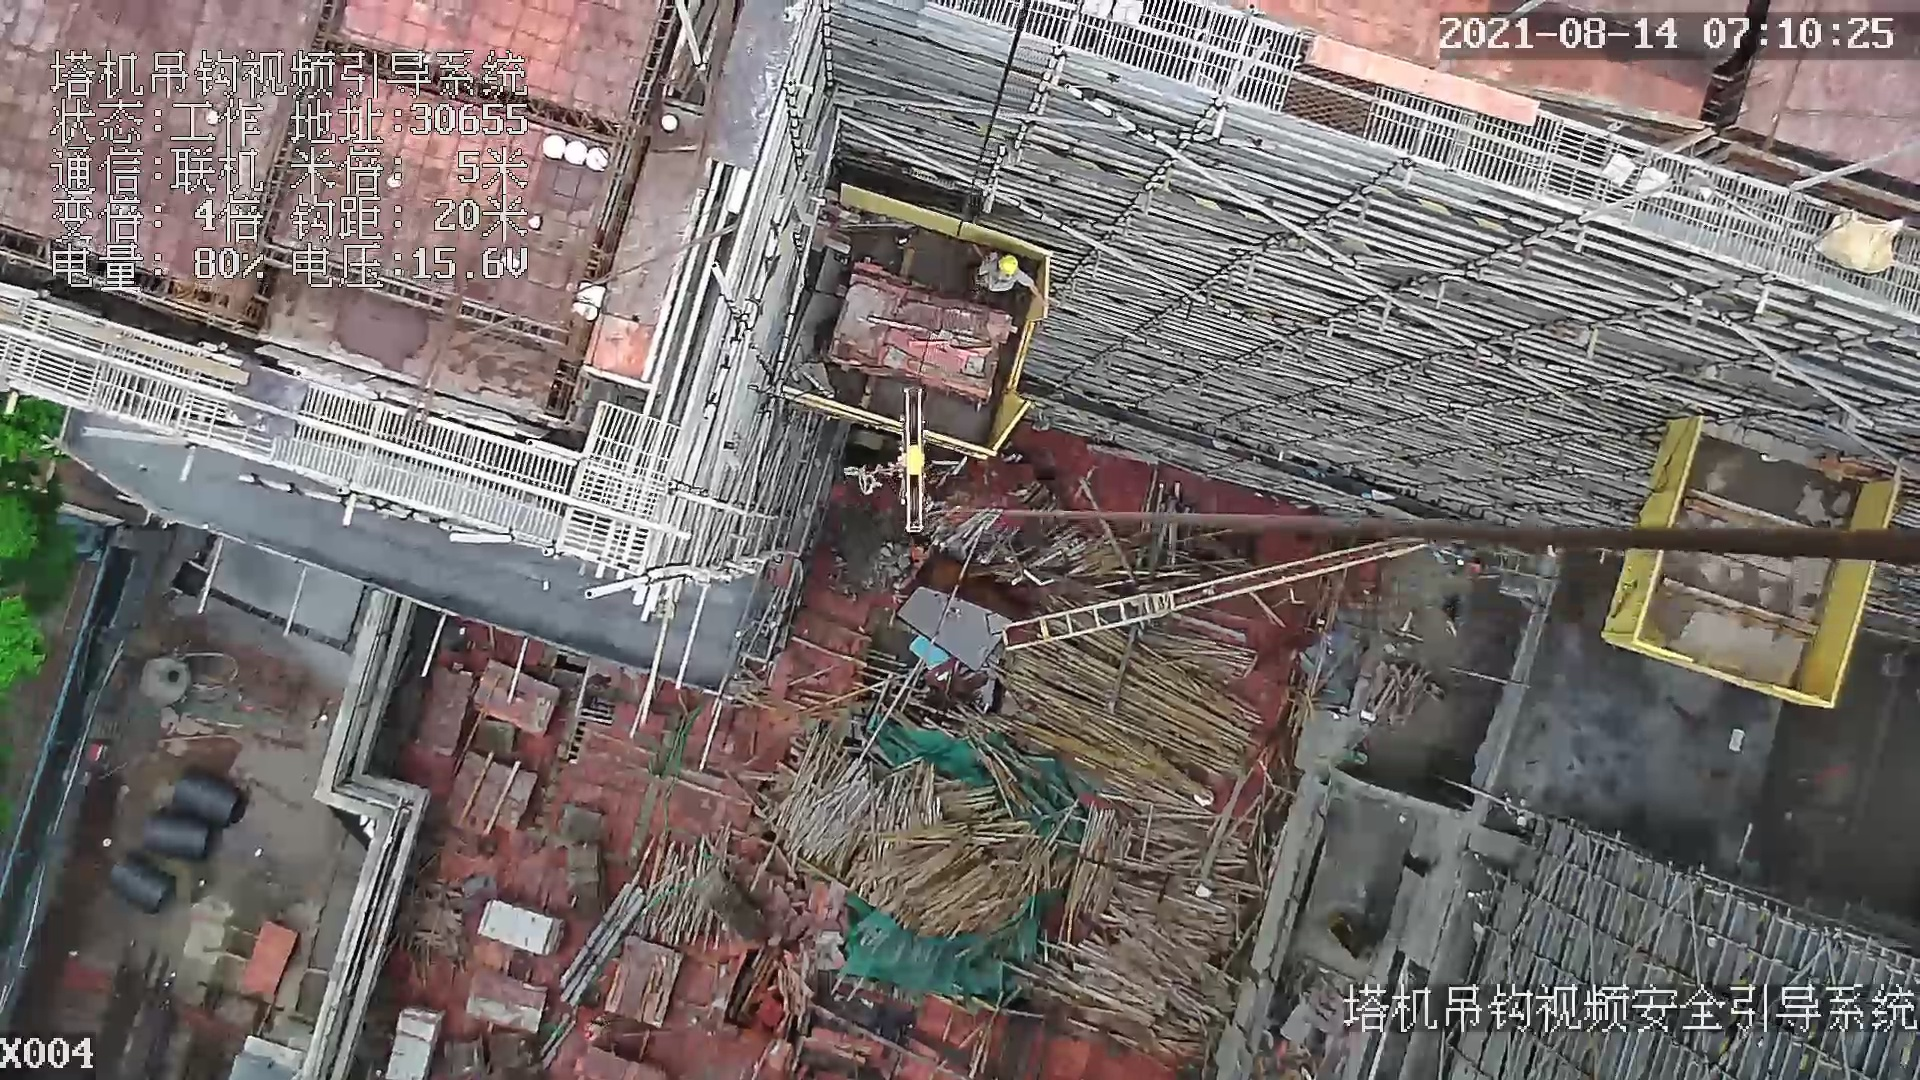helmet: (998, 254, 1020, 278)
hook: (890, 382, 940, 535)
person: (975, 247, 1048, 308), (582, 1015, 611, 1041)
